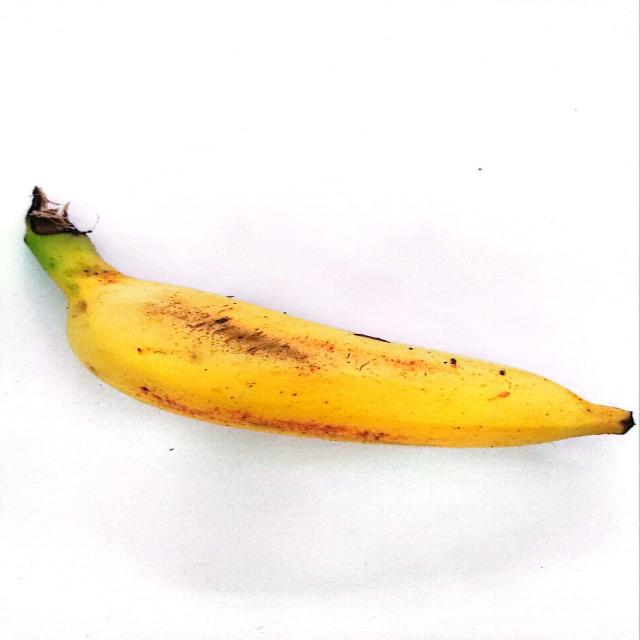fresh_banana: (20, 188, 630, 444)
